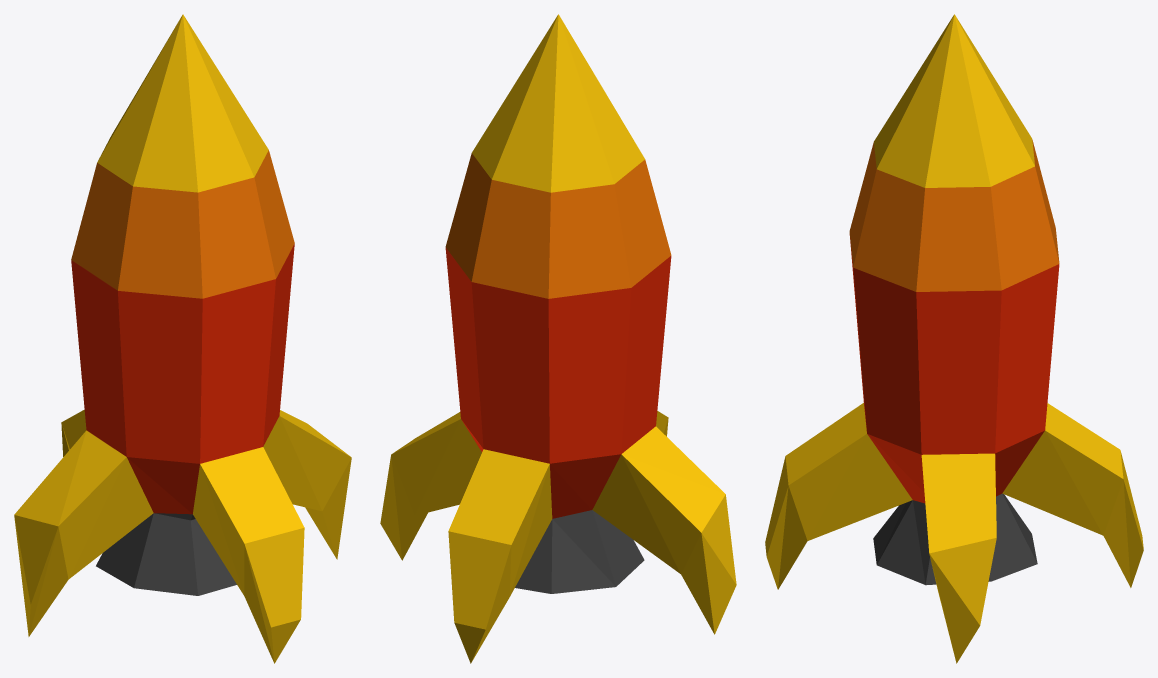
Rendered from rocket_decimated.fbx.
3 views of the same model, side by side, from view 1: azimuth 30°, elevation 25°; view 2: azimuth 150°, elevation 25°; view 3: azimuth 270°, elevation 25° (orthographic).
Visible parts, largest first — view 1: Circle; view 2: Circle; view 3: Circle.
Boxes of the visible parts, x1,y1,x2,y2 form: Circle: (14,14,351,663); Circle: (380,14,736,663); Circle: (765,14,1143,663).
Bounding box in the file's own units: 316 × 534 × 319.
